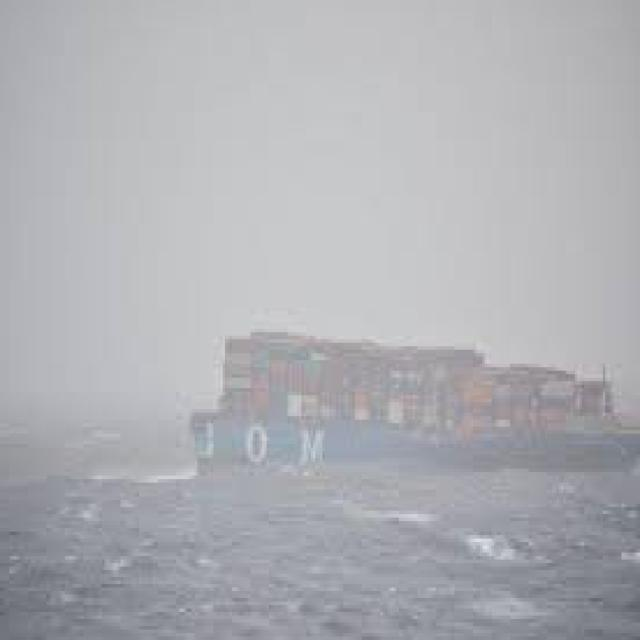cargoship: (197, 321, 640, 484)
